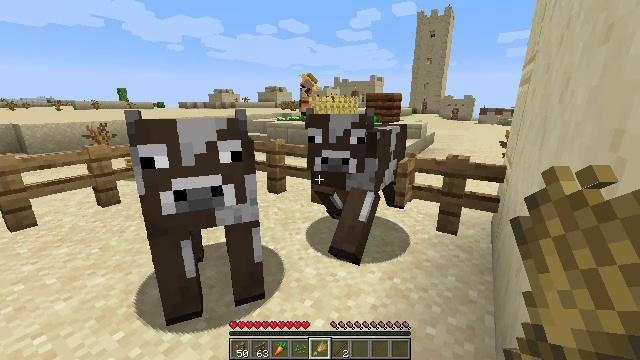cow: (122, 110, 265, 321), (306, 111, 407, 258)
